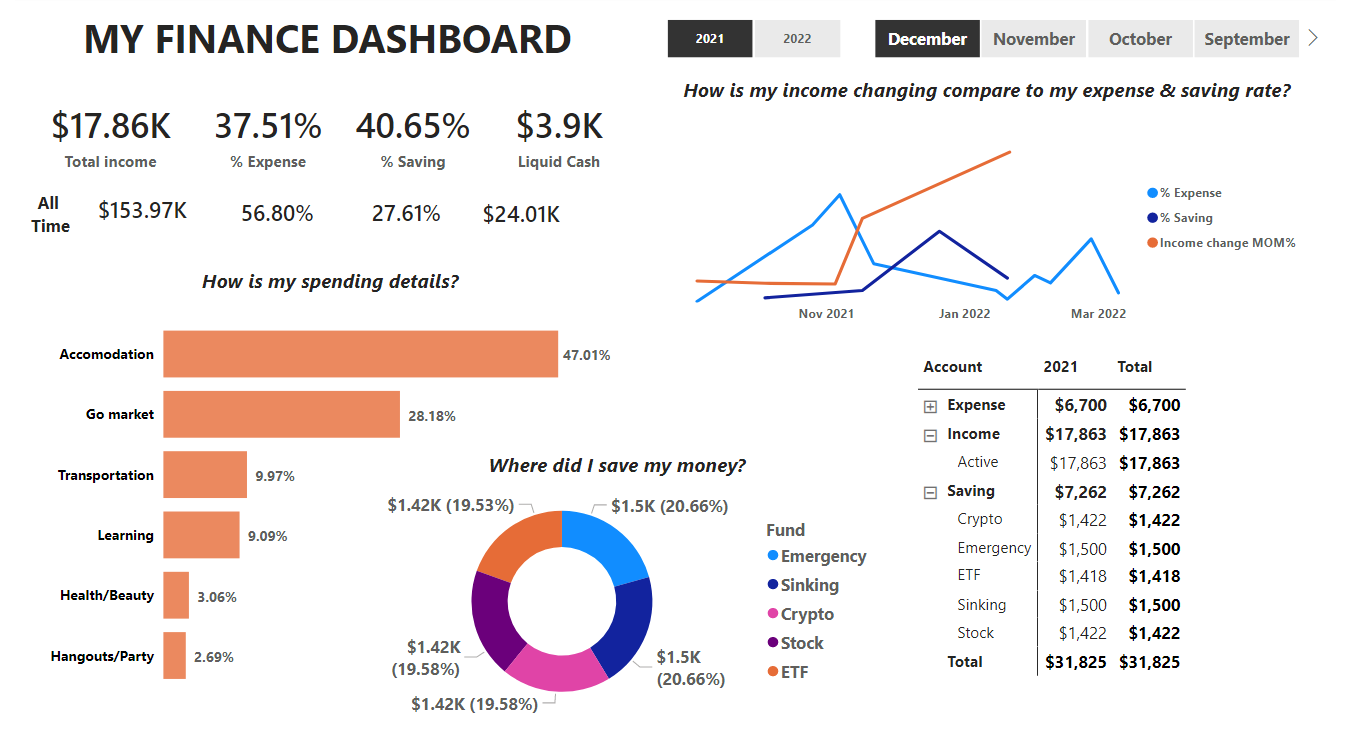

What the dashboard file says about the page in this screenshot:
{"tool":"powerbi","page":{"name":"Page 1","canvas":[1280,720],"ordinal":0},"visuals":[{"type":"card","fields":{"Values":["keyinsights.% Expense"]},"box":[172.1,93,147.2,84.7],"z":0},{"type":"card","fields":{"Values":["keyinsights.Liquid Cash"]},"box":[460.9,93,131.9,84.7],"z":1000},{"type":"card","fields":{"Values":["keyinsights.Total income"]},"box":[20.8,93,147.2,84.7],"z":2000},{"type":"card","fields":{"Values":["keyinsights.% Saving"]},"box":[316.5,93,140.2,84.7],"z":3000},{"type":"slicer","fields":{"Values":["findata.Date.Variation.Date Hierarchy.Month"]},"box":[805.2,16.7,459.5,50],"z":4000},{"type":"slicer","fields":{"Values":["findata.Date.Variation.Date Hierarchy.Year"]},"box":[605.3,16.7,216.6,50],"z":5000},{"type":"card","fields":{"Values":["keyinsights.Title"]},"box":[0,2.8,606.4,77.7],"z":6000},{"type":"card","fields":{"Values":["keyinsights.Total income"]},"box":[65.8,184.9,116.6,48.6],"z":7000},{"type":"card","fields":{"Values":["keyinsights.% Expense"]},"box":[195.5,186.6,119.4,48.6],"z":8000},{"type":"card","fields":{"Values":["keyinsights.% Saving"]},"box":[327.4,187.1,105.5,48.6],"z":9000},{"type":"card","fields":{"Values":["keyinsights.Liquid Cash"]},"box":[439.8,188,100,48.6],"z":10000},{"type":"textbox","box":[5.3,184.4,62.5,56.9],"z":11000},{"type":"clusteredBarChart","title":"How is my spending details?","fields":{"Category":["findata.Type","findata.Account"],"Y":["keyinsights.Total expense"]},"box":[30.5,262.4,551.7,426.2],"z":12000},{"type":"donutChart","title":"Where did I save my money?","fields":{"Category":["findata.Type","findata.Account"],"Y":["keyinsights.Total saving"]},"box":[327.6,440.1,509.5,265.2],"z":13000},{"type":"lineChart","title":"How is my income changing compare to my expense & saving rate?","fields":{"Y":["keyinsights.% Expense","keyinsights.% Saving","keyinsights.Income change MOM%"],"Category":["findata.Date"]},"box":[627.2,78.6,624.7,247.1],"z":14000},{"type":"pivotTable","fields":{"Rows":["findata.Account","findata.Type"],"Values":["Sum(findata.Amount)"],"Columns":["findata.Date.Variation.Date Hierarchy.Year","findata.Date.Variation.Date Hierarchy.Month"]},"box":[868,339.6,385.9,380.4],"z":15000}]}

Visuals, with their boxes on the page's 1280x720 design canvas (x1, y1, x2, y2). These are canvas units, not pixel positions in the 1350x732 screenshot, which may show the page scaled, cropped or inside an application window:
card - keyinsights.% Expense: region(172, 93, 319, 178)
card - keyinsights.Liquid Cash: region(461, 93, 593, 178)
card - keyinsights.Total income: region(21, 93, 168, 178)
card - keyinsights.% Saving: region(316, 93, 457, 178)
slicer - findata.Date.Variation.Date Hierarchy.Month: region(805, 17, 1265, 67)
slicer - findata.Date.Variation.Date Hierarchy.Year: region(605, 17, 822, 67)
card - keyinsights.Title: region(0, 3, 606, 80)
card - keyinsights.Total income: region(66, 185, 182, 234)
card - keyinsights.% Expense: region(196, 187, 315, 235)
card - keyinsights.% Saving: region(327, 187, 433, 236)
card - keyinsights.Liquid Cash: region(440, 188, 540, 237)
textbox: region(5, 184, 68, 241)
"How is my spending details?" clusteredBarChart: region(30, 262, 582, 689)
"Where did I save my money?" donutChart: region(328, 440, 837, 705)
"How is my income changing compare to my expense & saving rate?" lineChart: region(627, 79, 1252, 326)
pivotTable - findata.Account x findata.Type: region(868, 340, 1254, 720)
